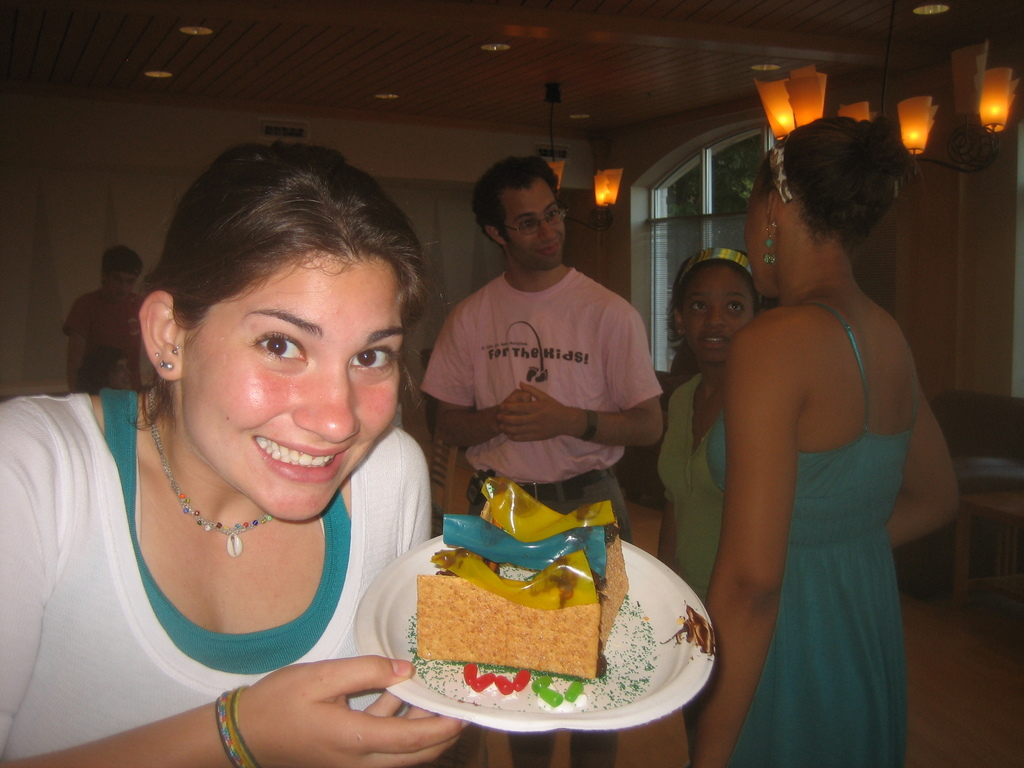cake: (413, 474, 629, 680)
